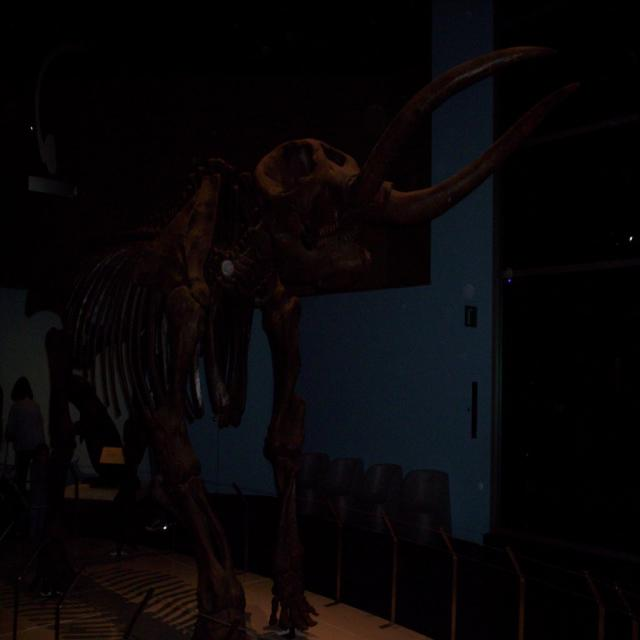Elephant: (48, 45, 549, 639)
